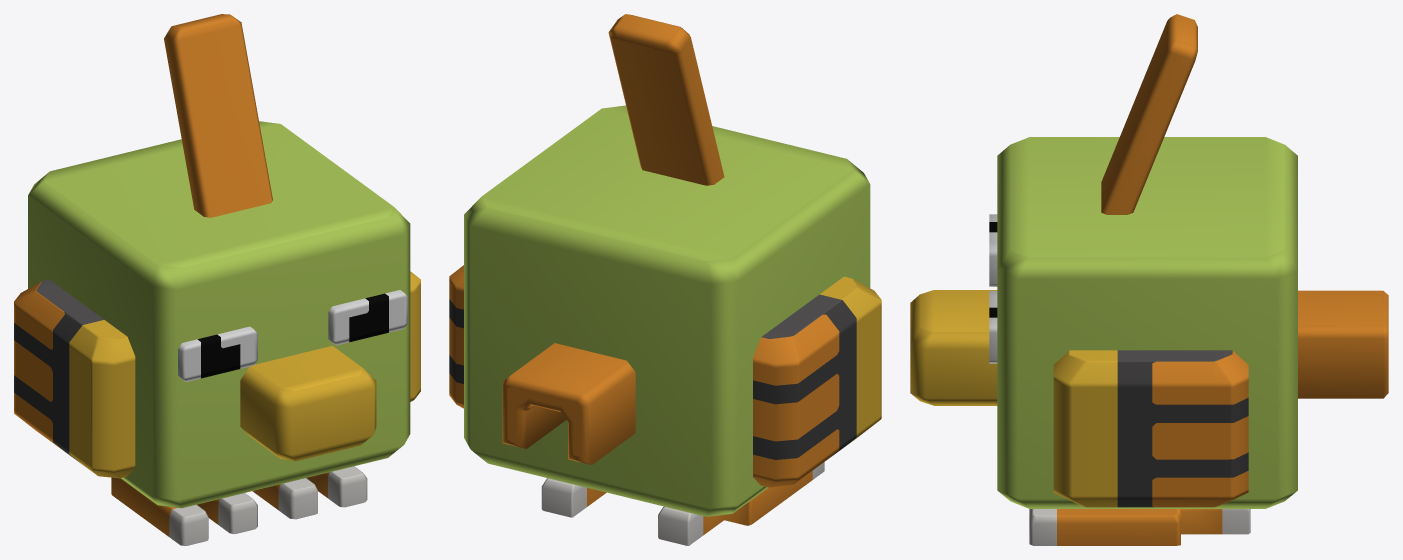
The picture shows the model from 3 angles, left to right: view 1: azimuth 30°, elevation 25°; view 2: azimuth 150°, elevation 25°; view 3: azimuth 270°, elevation 25°; orthographic projection. The views are drawn at different scales.
Visible parts, largest first — view 1: model; view 2: model; view 3: model.
Part boxes in pixels (bbox=[...]): model: bbox=[14, 14, 420, 545]; model: bbox=[449, 14, 881, 545]; model: bbox=[910, 14, 1388, 545].
Bounding box in the file's own units: 1.43 × 1.88 × 1.73.
